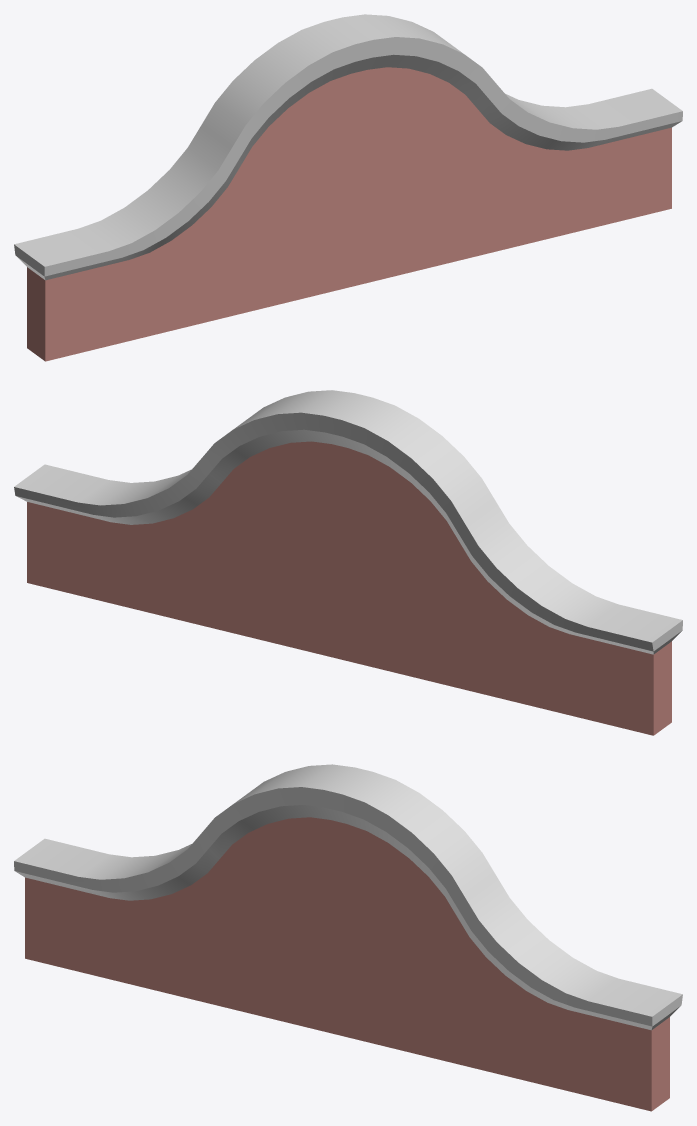
The model's file is SM_Modular_BuildingTopArch.fbx.
3 renders of one model, top to bottom at view 1: azimuth 30°, elevation 25°; view 2: azimuth 150°, elevation 25°; view 3: azimuth 330°, elevation 25°, orthographic.
Parts seen in each view (by area): view 1: Plane.024; view 2: Plane.024; view 3: Plane.024.
Boxes of the visible parts, x1=… form: Plane.024: x1=14, y1=14, x2=682, y2=361; Plane.024: x1=14, y1=390, x2=682, y2=735; Plane.024: x1=14, y1=764, x2=682, y2=1111.
Size of the model in its own units: 509 by 188 by 42.55.
